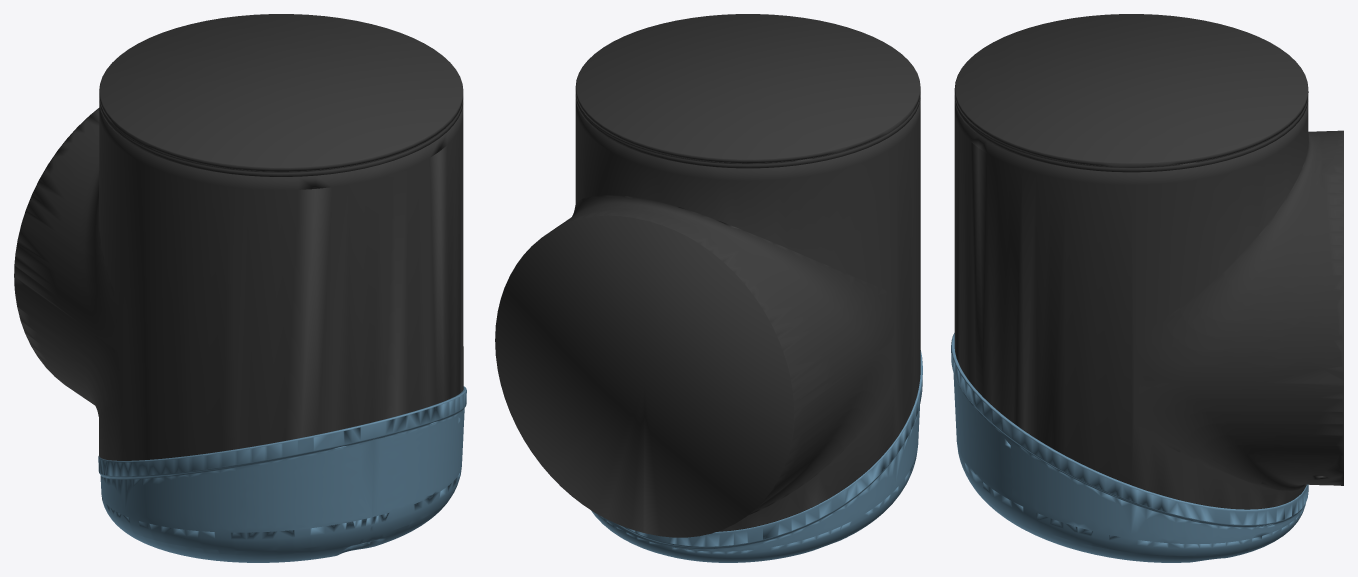
Rendered from wrist2.obj.
3 views of the same model, side by side, from view 1: azimuth 30°, elevation 25°; view 2: azimuth 150°, elevation 25°; view 3: azimuth 270°, elevation 25° (orthographic). The views are drawn at different scales.
Parts seen in each view (by area): view 1: node-shape0-name_shape0.105, node-shape1-name_shape1.074; view 2: node-shape0-name_shape0.105, node-shape1-name_shape1.074; view 3: node-shape0-name_shape0.105, node-shape1-name_shape1.074.
Part boxes in pixels (x1=…): node-shape0-name_shape0.105: x1=14, y1=14, x2=463, y2=460; node-shape1-name_shape1.074: x1=98, y1=386, x2=466, y2=562; node-shape0-name_shape0.105: x1=495, y1=14, x2=920, y2=537; node-shape1-name_shape1.074: x1=591, y1=350, x2=922, y2=562; node-shape0-name_shape0.105: x1=954, y1=14, x2=1343, y2=509; node-shape1-name_shape1.074: x1=951, y1=333, x2=1308, y2=562.
Size of the model in its own units: 0.091 by 0.1188 by 0.0999.
